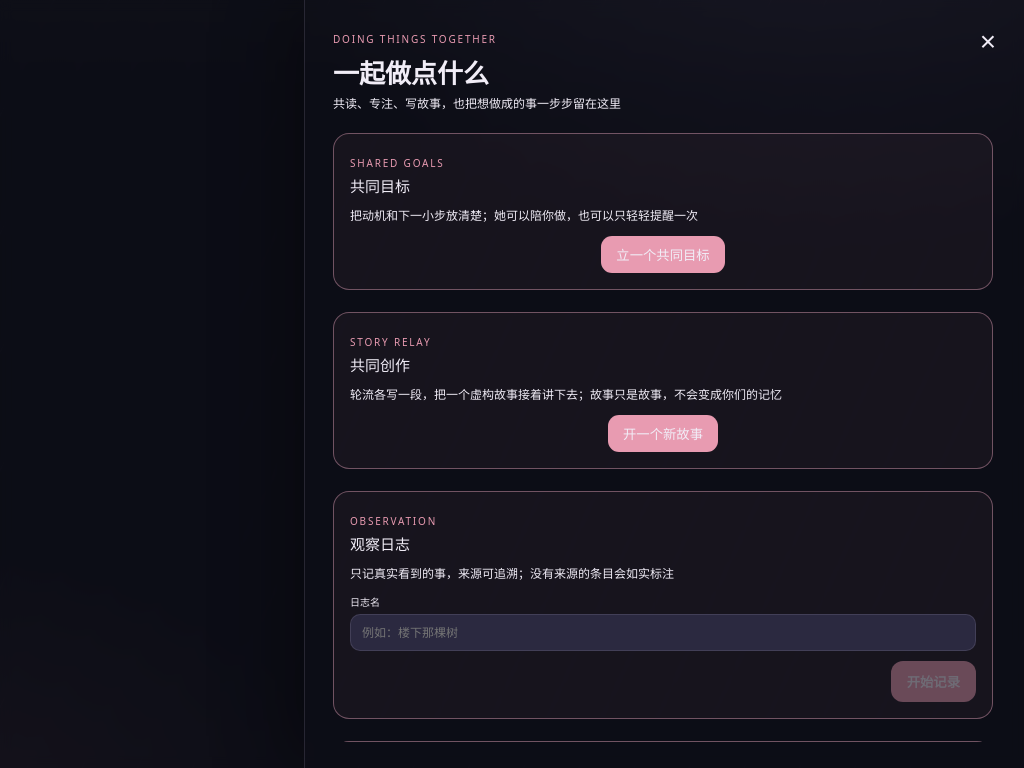
Test case: ActivityPanel › starts a story relay and records the user turn
Click the button with class "open-bookshelf" showing "开一个新故事" at (663, 434), box [608,415,718,452]
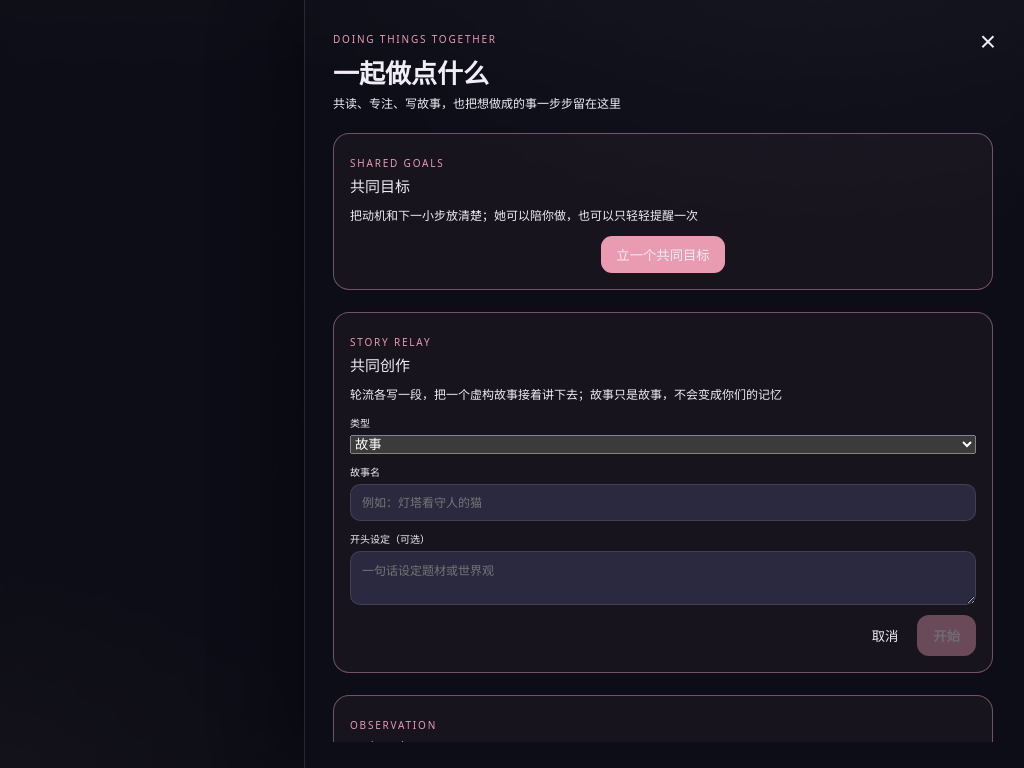
Type "灯塔看守人的猫" into the field labelled "故事名" at (663, 502), box [350,484,976,521]
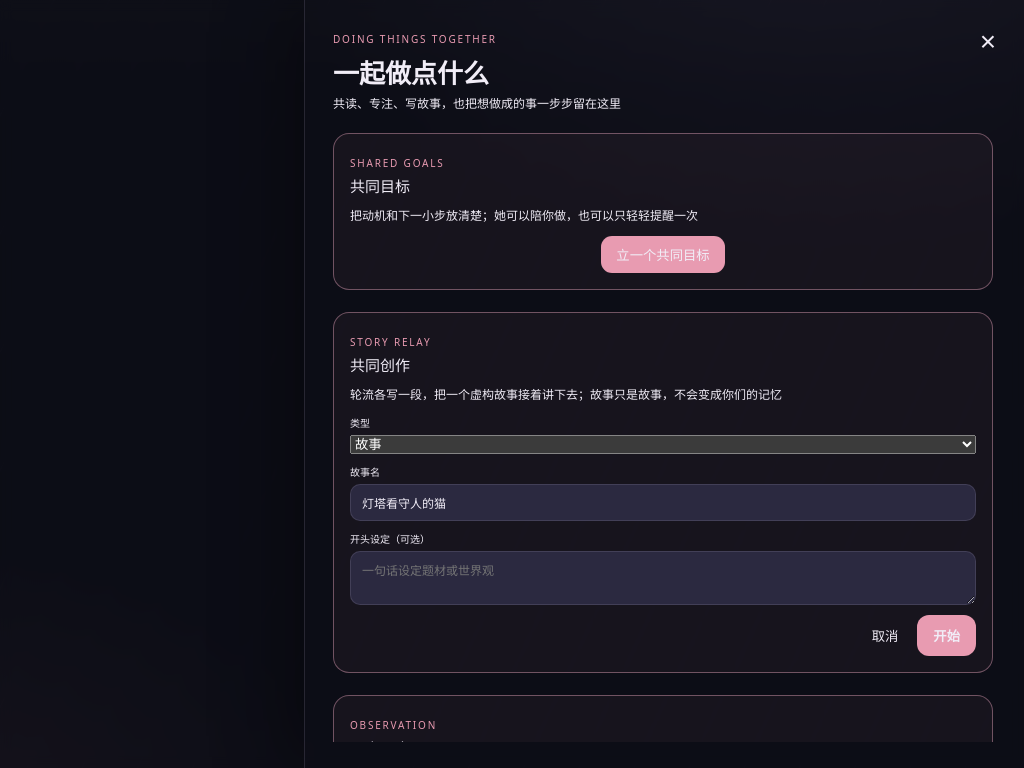
Click the button with class "talk" at (947, 636), box [917,615,976,656]
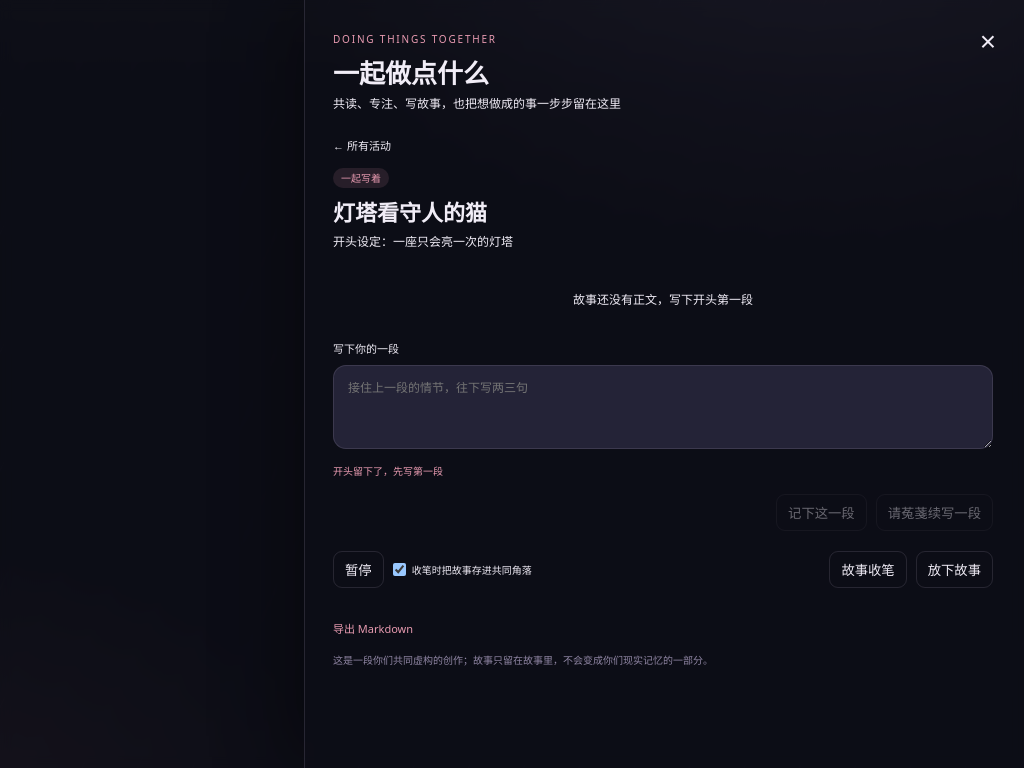
Expected: the text "故事还没有正文" is shown, [573,291,753,308]
Type "猫在第七天开始学着数浪。" into the text box labelled "写下你的一段" at (663, 407), box [333,365,993,449]
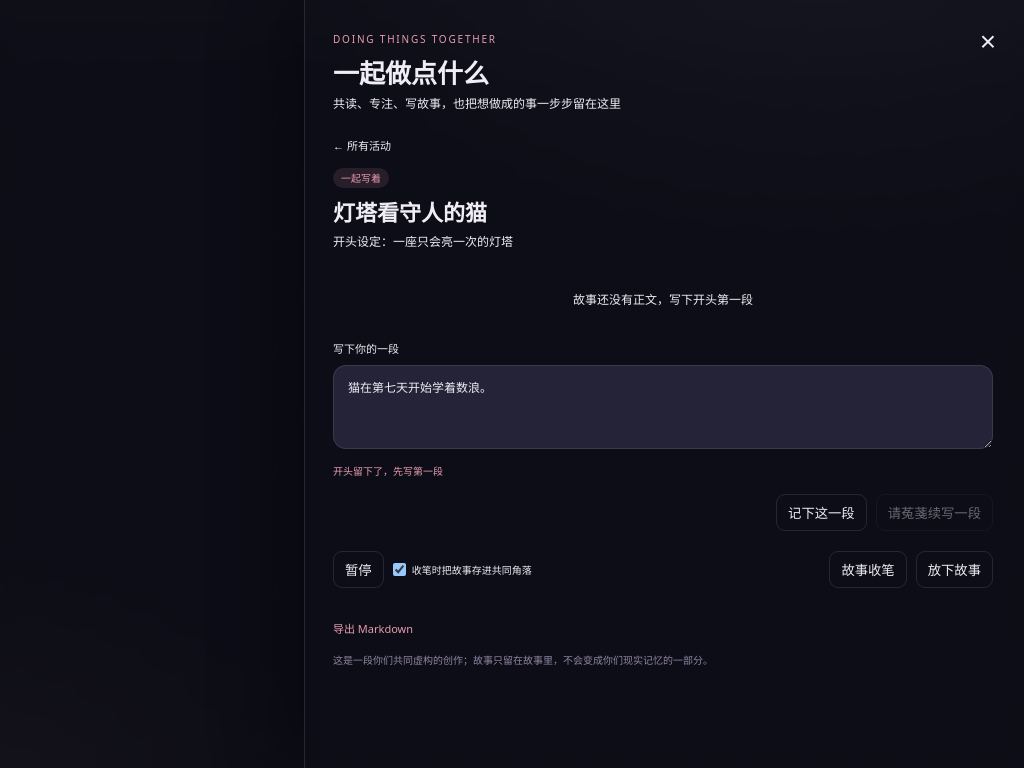
Click the button "记下这一段" at (821, 512), box [776,494,867,531]
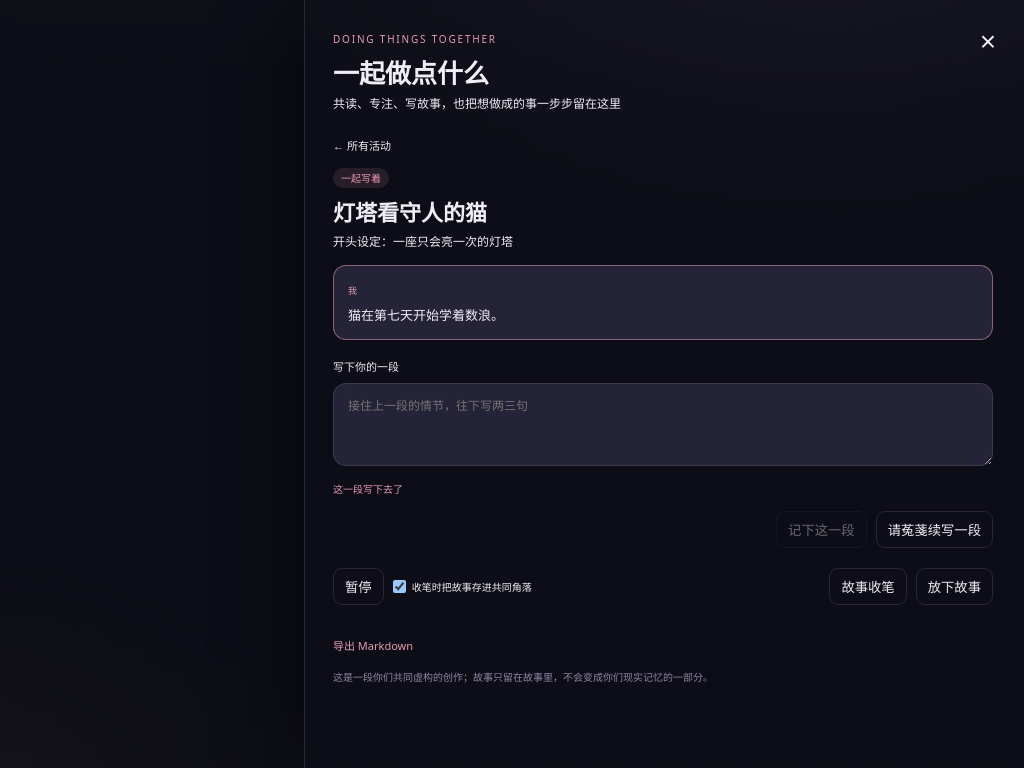
Expected: the text "虚构" is shown, [333,670,713,684]
Expected: the text "猫在第七天开始学着数浪" is shown, [348,306,504,324]
